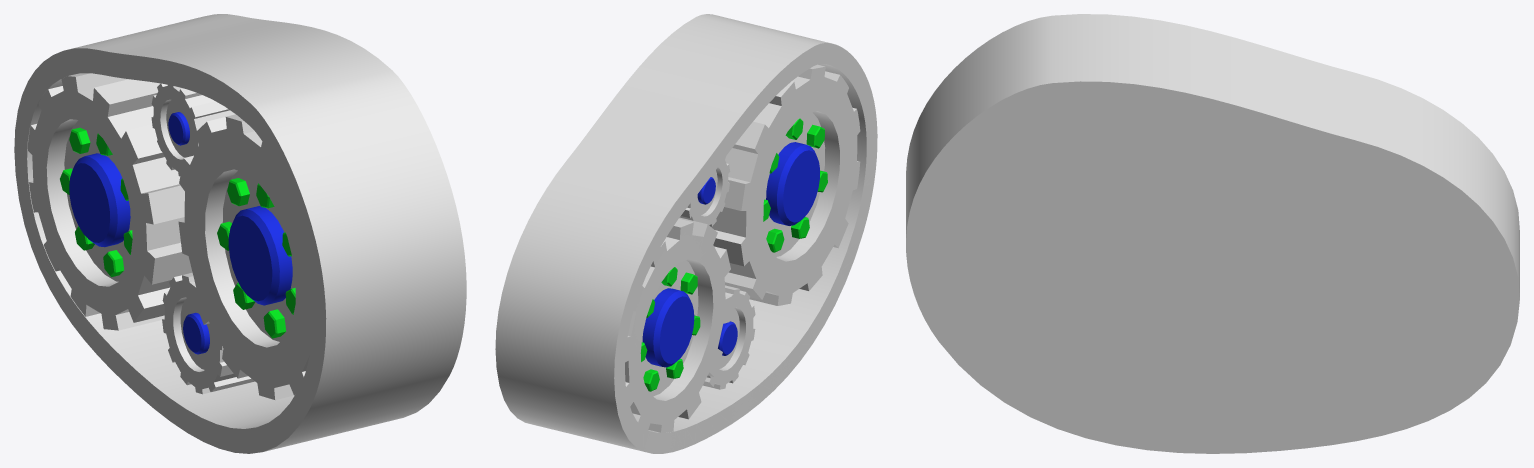
Rendered from Tanktrack.fbx.
3 views of the same model, side by side, from view 1: azimuth 30°, elevation 25°; view 2: azimuth 150°, elevation 25°; view 3: azimuth 270°, elevation 25° (orthographic). The views are drawn at different scales.
Parts seen in each view (by area): view 1: Curvebake, Gearbig.008, Gearbig, Gearbig.016, Gearbig.017; view 2: Curvebake, Gearbig, Gearbig.008, Gearbig.016, Gearbig.017; view 3: Curvebake.001, Curvebake.
Boxes of the visible parts, x1,y1,x2,y2 form: Curvebake: [14, 14, 466, 453]; Gearbig.008: [28, 73, 192, 330]; Gearbig: [178, 114, 313, 399]; Gearbig.016: [162, 272, 254, 394]; Gearbig.017: [151, 83, 235, 176]; Curvebake: [495, 14, 877, 453]; Gearbig: [710, 64, 860, 305]; Gearbig.008: [625, 217, 732, 432]; Gearbig.016: [703, 285, 755, 389]; Gearbig.017: [679, 157, 730, 226]; Curvebake.001: [931, 104, 1494, 431]; Curvebake: [906, 14, 1519, 453].
Bounding box in the file's own units: 0.7524 × 1.94 × 2.89.
